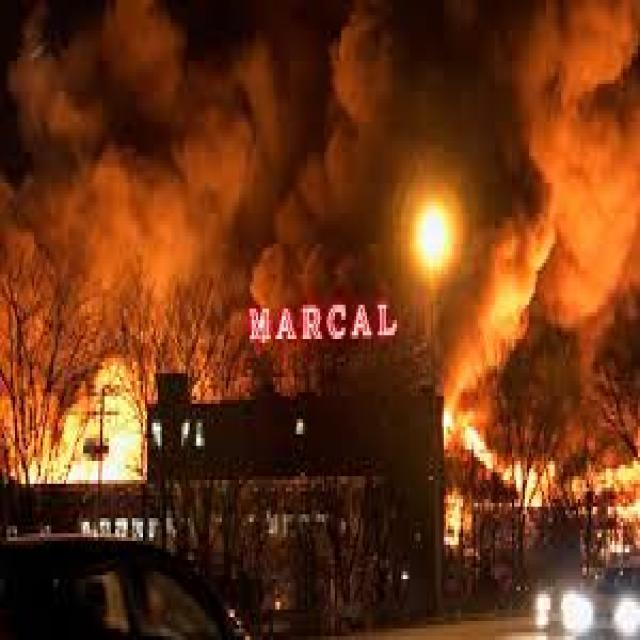Smoke: (0, 0, 195, 463), (196, 6, 394, 381), (479, 0, 640, 375)
